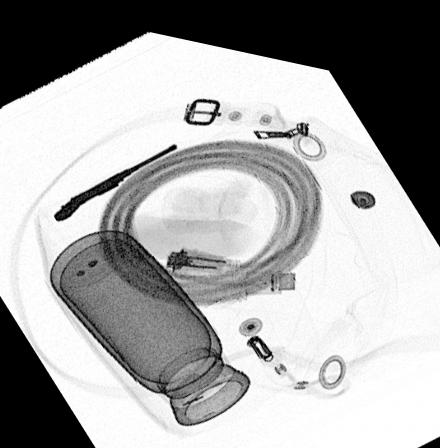Gun: (53, 134, 177, 219)
